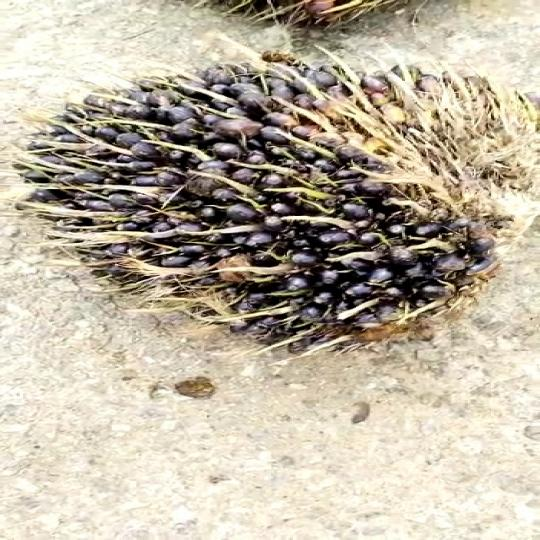mentah: (19, 61, 540, 376)
